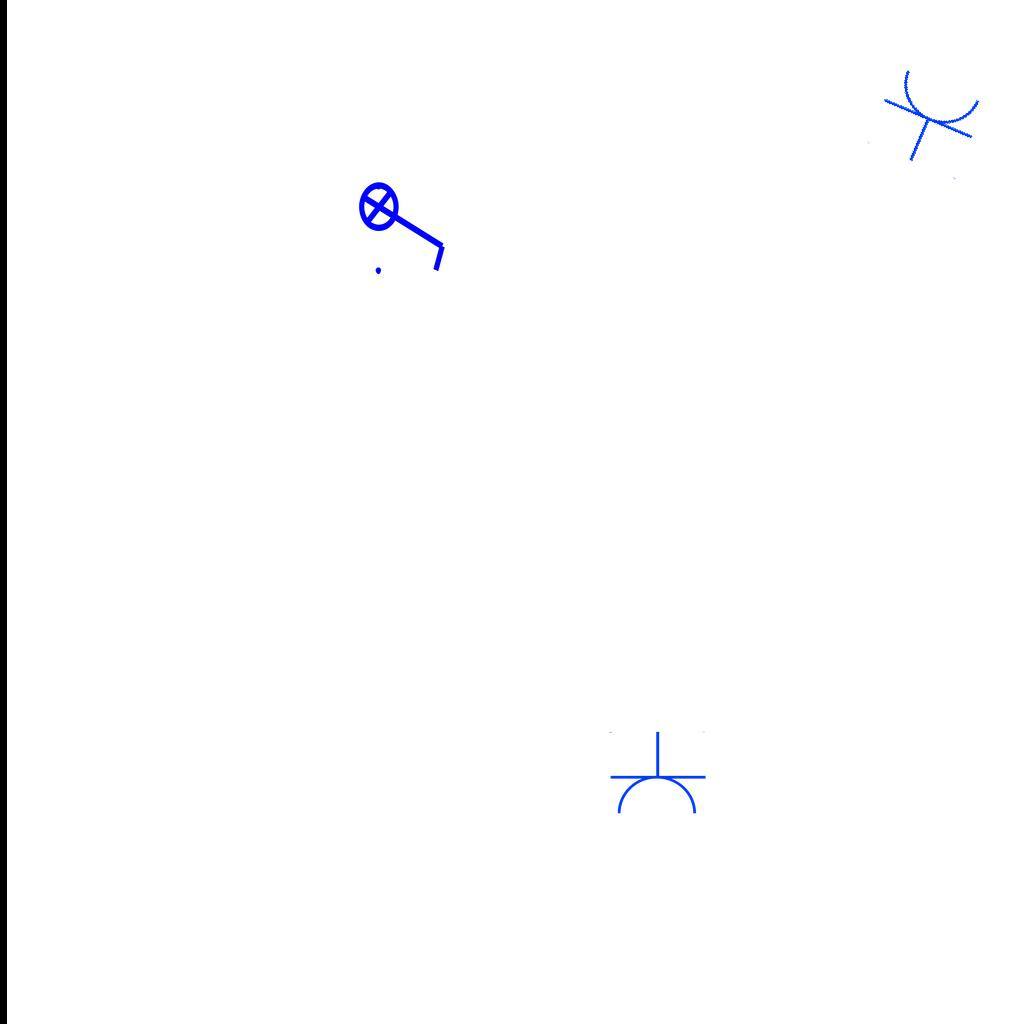Ausschalter_beleuchtet: (357, 168, 453, 280)
Schukosteckdose_einfach: (864, 61, 992, 182), (607, 731, 707, 818)
